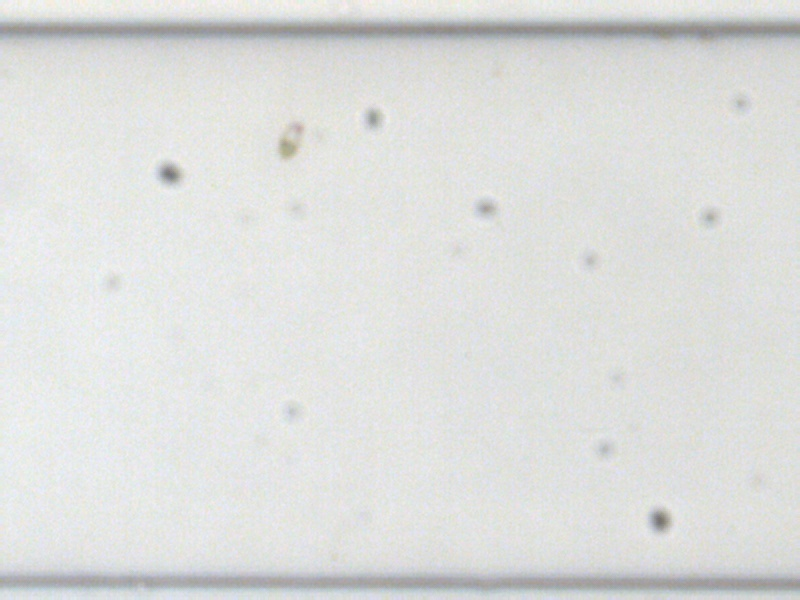Dunaliella salina: (276, 117, 305, 161)
